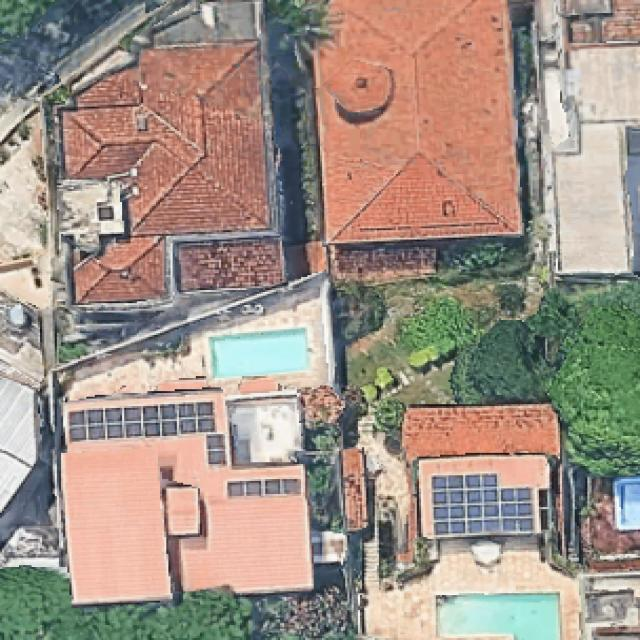painel: (432, 472, 538, 542), (68, 403, 219, 441), (219, 475, 304, 506), (201, 434, 232, 468)
